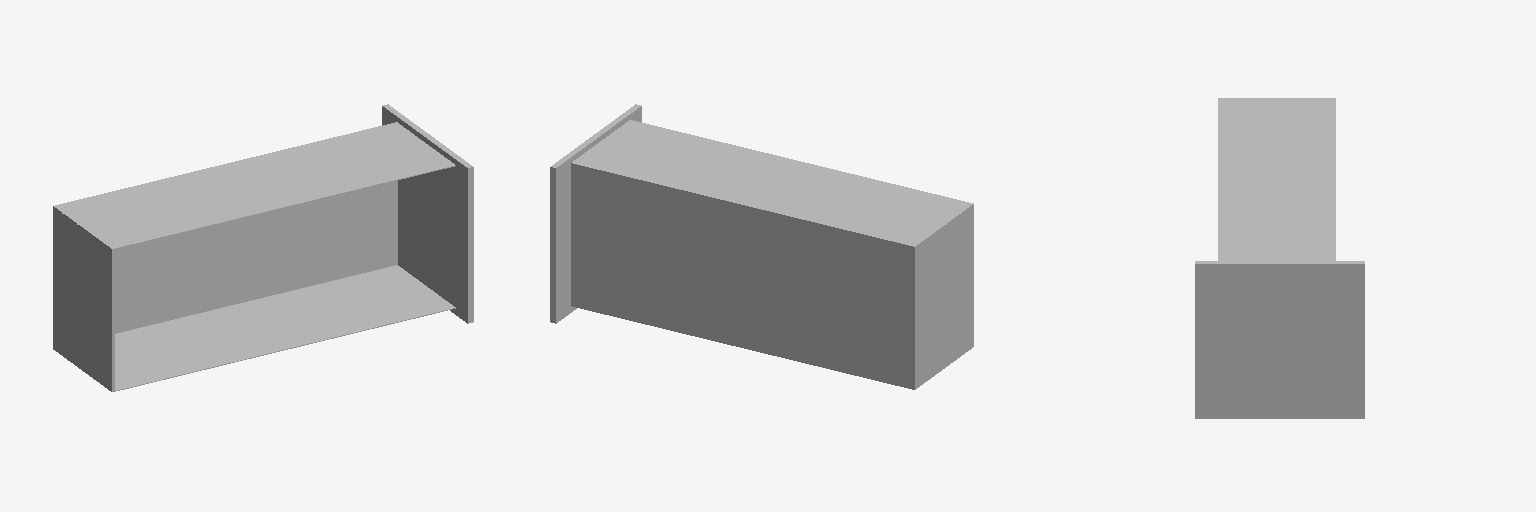
The model's file is drawer.obj.
The picture shows the model from 3 angles: view 1: azimuth 30°, elevation 25°; view 2: azimuth 150°, elevation 25°; view 3: azimuth 270°, elevation 25°; orthographic projection.
Size of the model in its own units: 0.5862 by 0.249 by 0.2479.